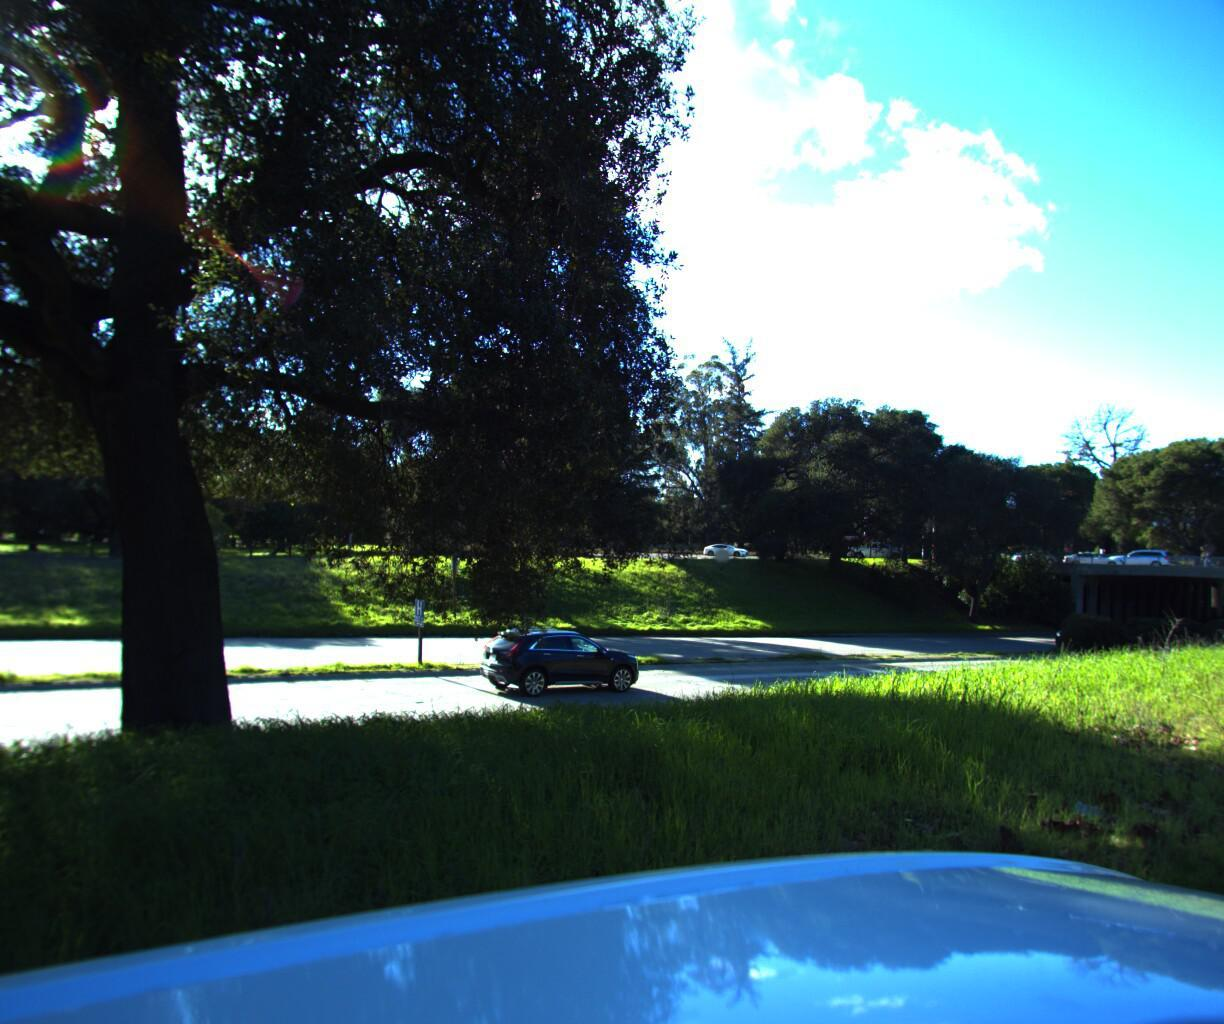car: (467, 617, 648, 700), (1056, 545, 1114, 566), (702, 540, 748, 557)
